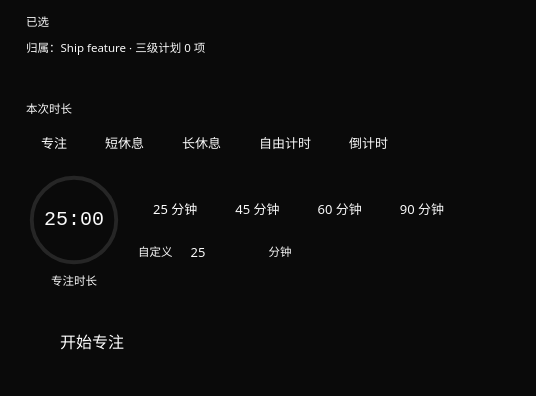
Test: SessionLauncher 模式切换（双体系兼容） › 休息模式的时长预设换成分模式预设（5/10/15），work 预设不再出现
Click the button "短休息": {"x": 124, "y": 144} [90, 126, 159, 160]
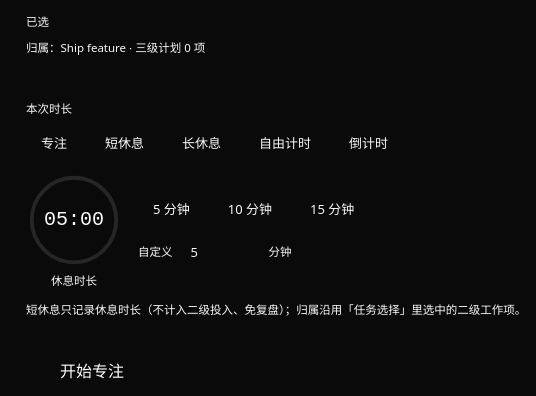
Result: the button "10 分钟" is shown at [213, 193, 287, 227]
Result: the button "15 分钟" is shown at [295, 193, 369, 227]
Result: the button "25 分钟" is gone
